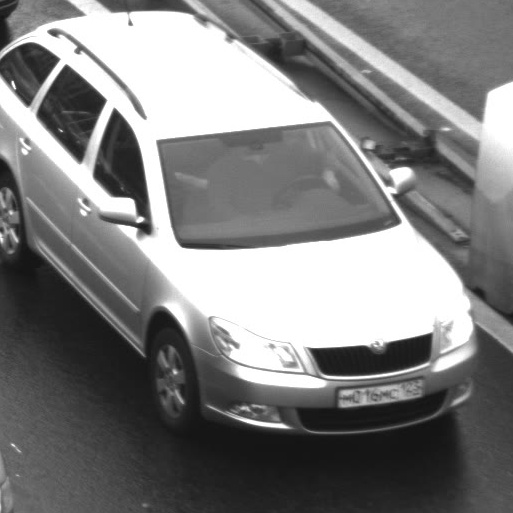plate: (331, 368, 431, 414)
